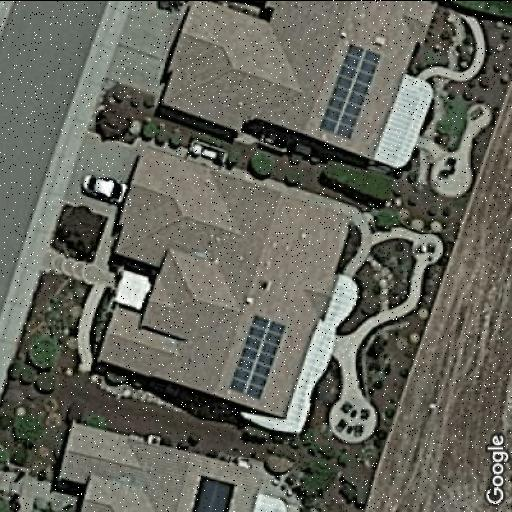solar-panel: (316, 38, 382, 142), (224, 310, 288, 402), (185, 471, 241, 512)
